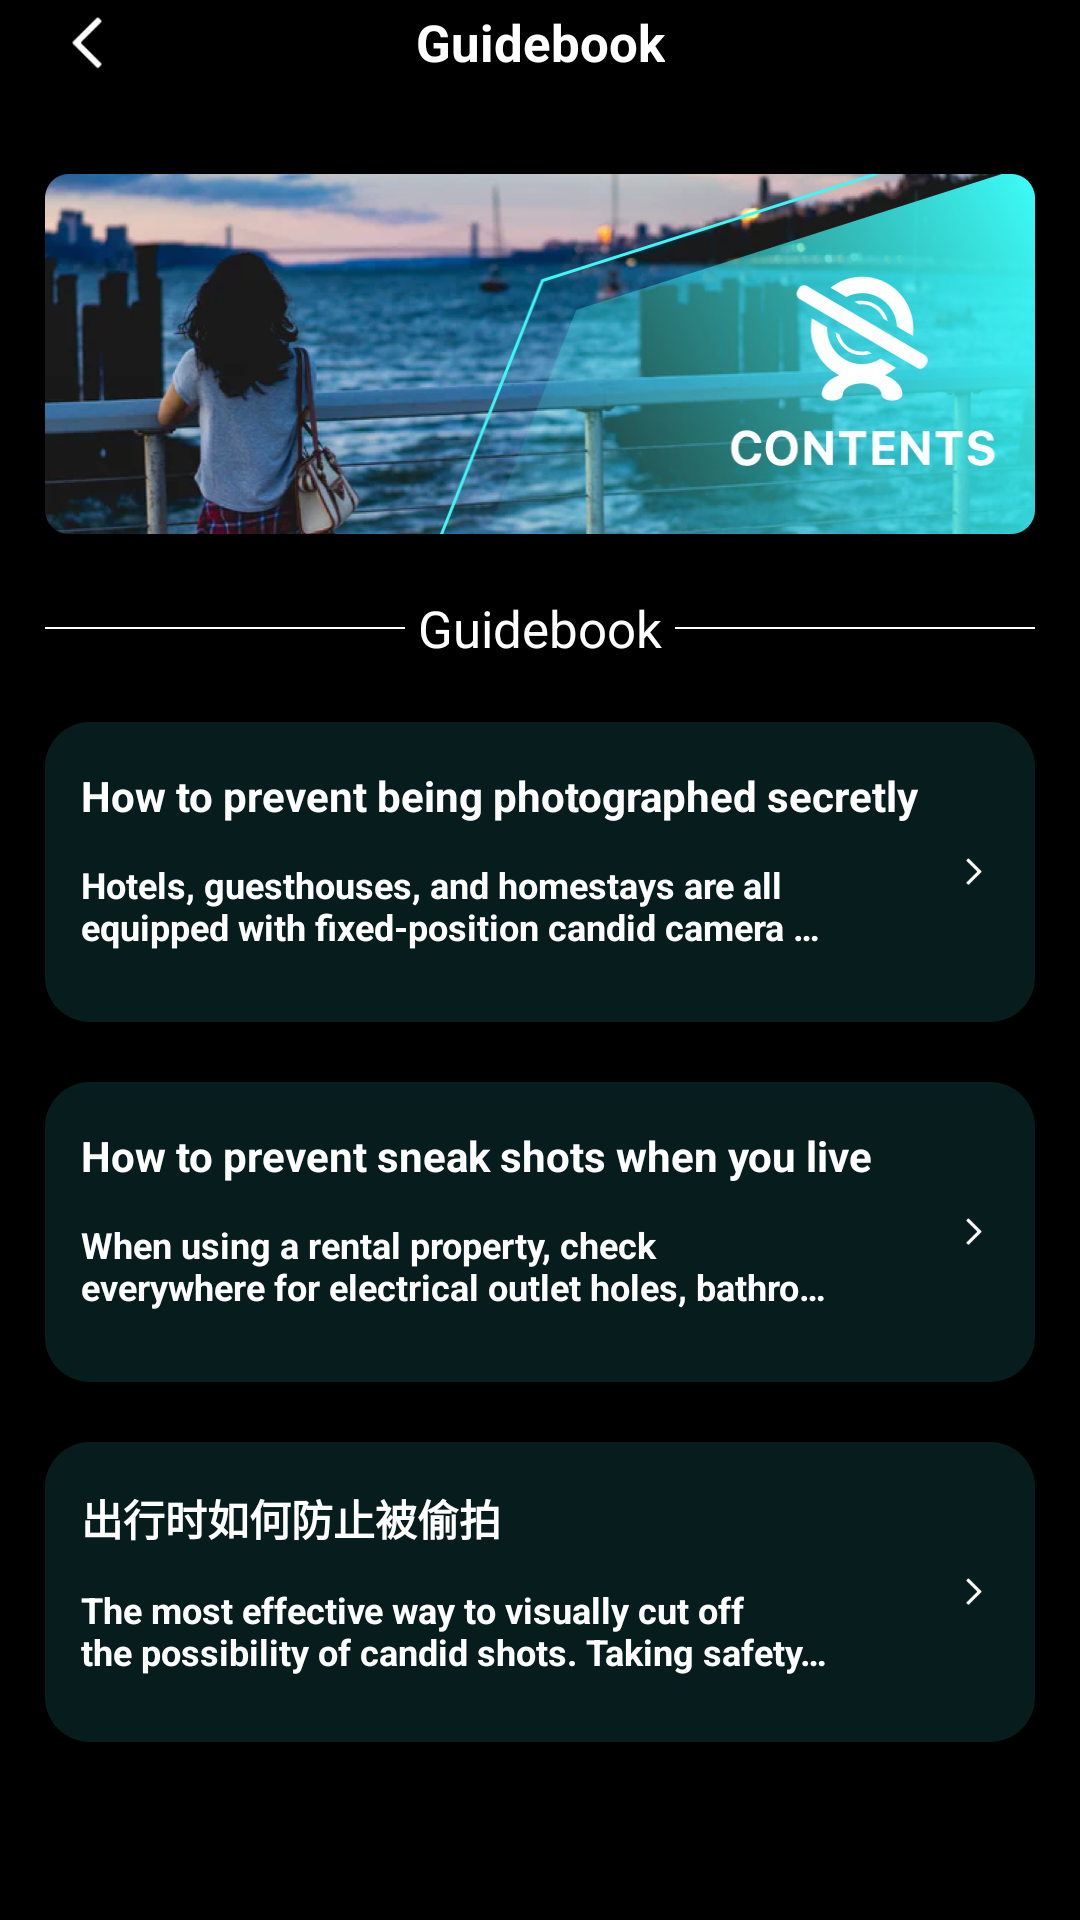

Named icons in this screenshot (1080*1920) and their centers, (x=x, y=y):
back: (x=87, y=43)
next: (x=974, y=871), (x=974, y=1231), (x=974, y=1591)
